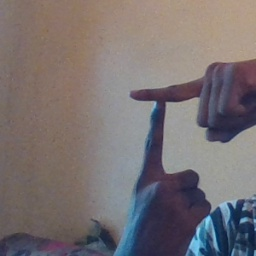T: (116, 62, 219, 190)
